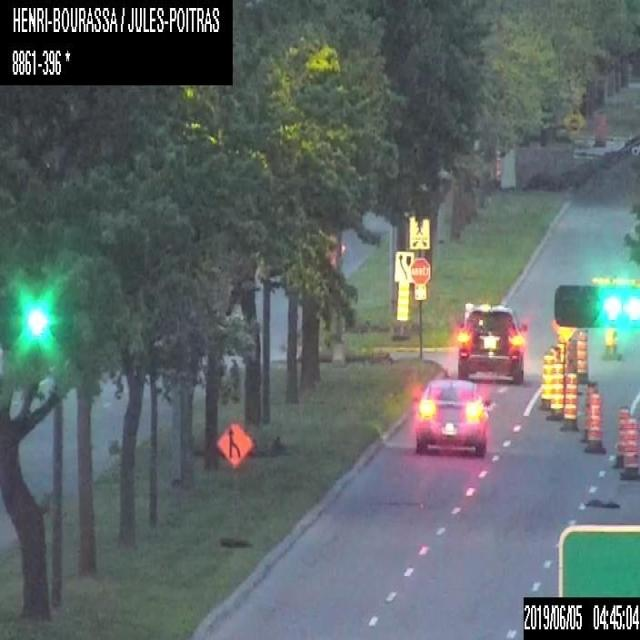construction: (215, 420, 254, 545), (619, 414, 639, 477), (585, 392, 605, 453), (582, 380, 599, 446), (613, 403, 630, 468), (560, 372, 579, 430), (546, 361, 564, 420), (538, 352, 556, 409), (574, 328, 589, 383), (593, 114, 605, 146), (549, 344, 560, 362)
vehicle: (414, 376, 490, 455), (456, 301, 528, 383)
